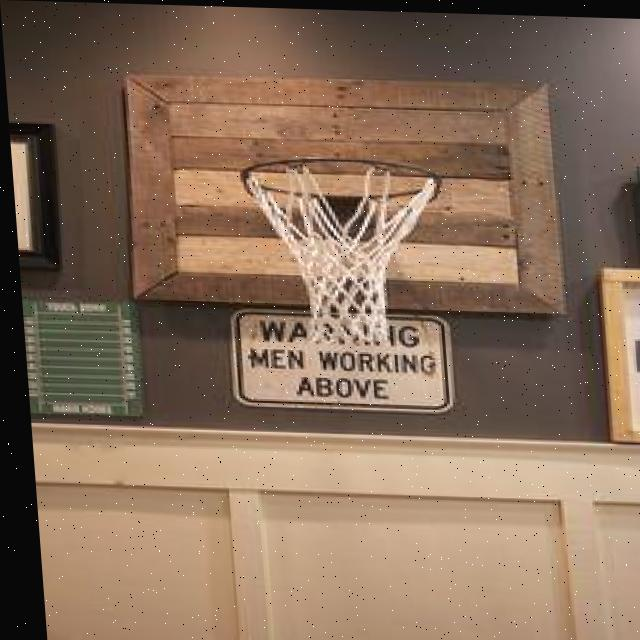hoop: (239, 155, 456, 349)
